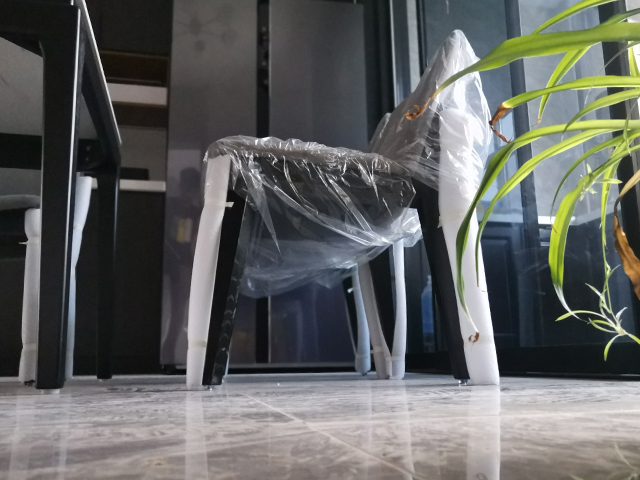stool: (181, 26, 507, 389)
table: (1, 1, 127, 390)
